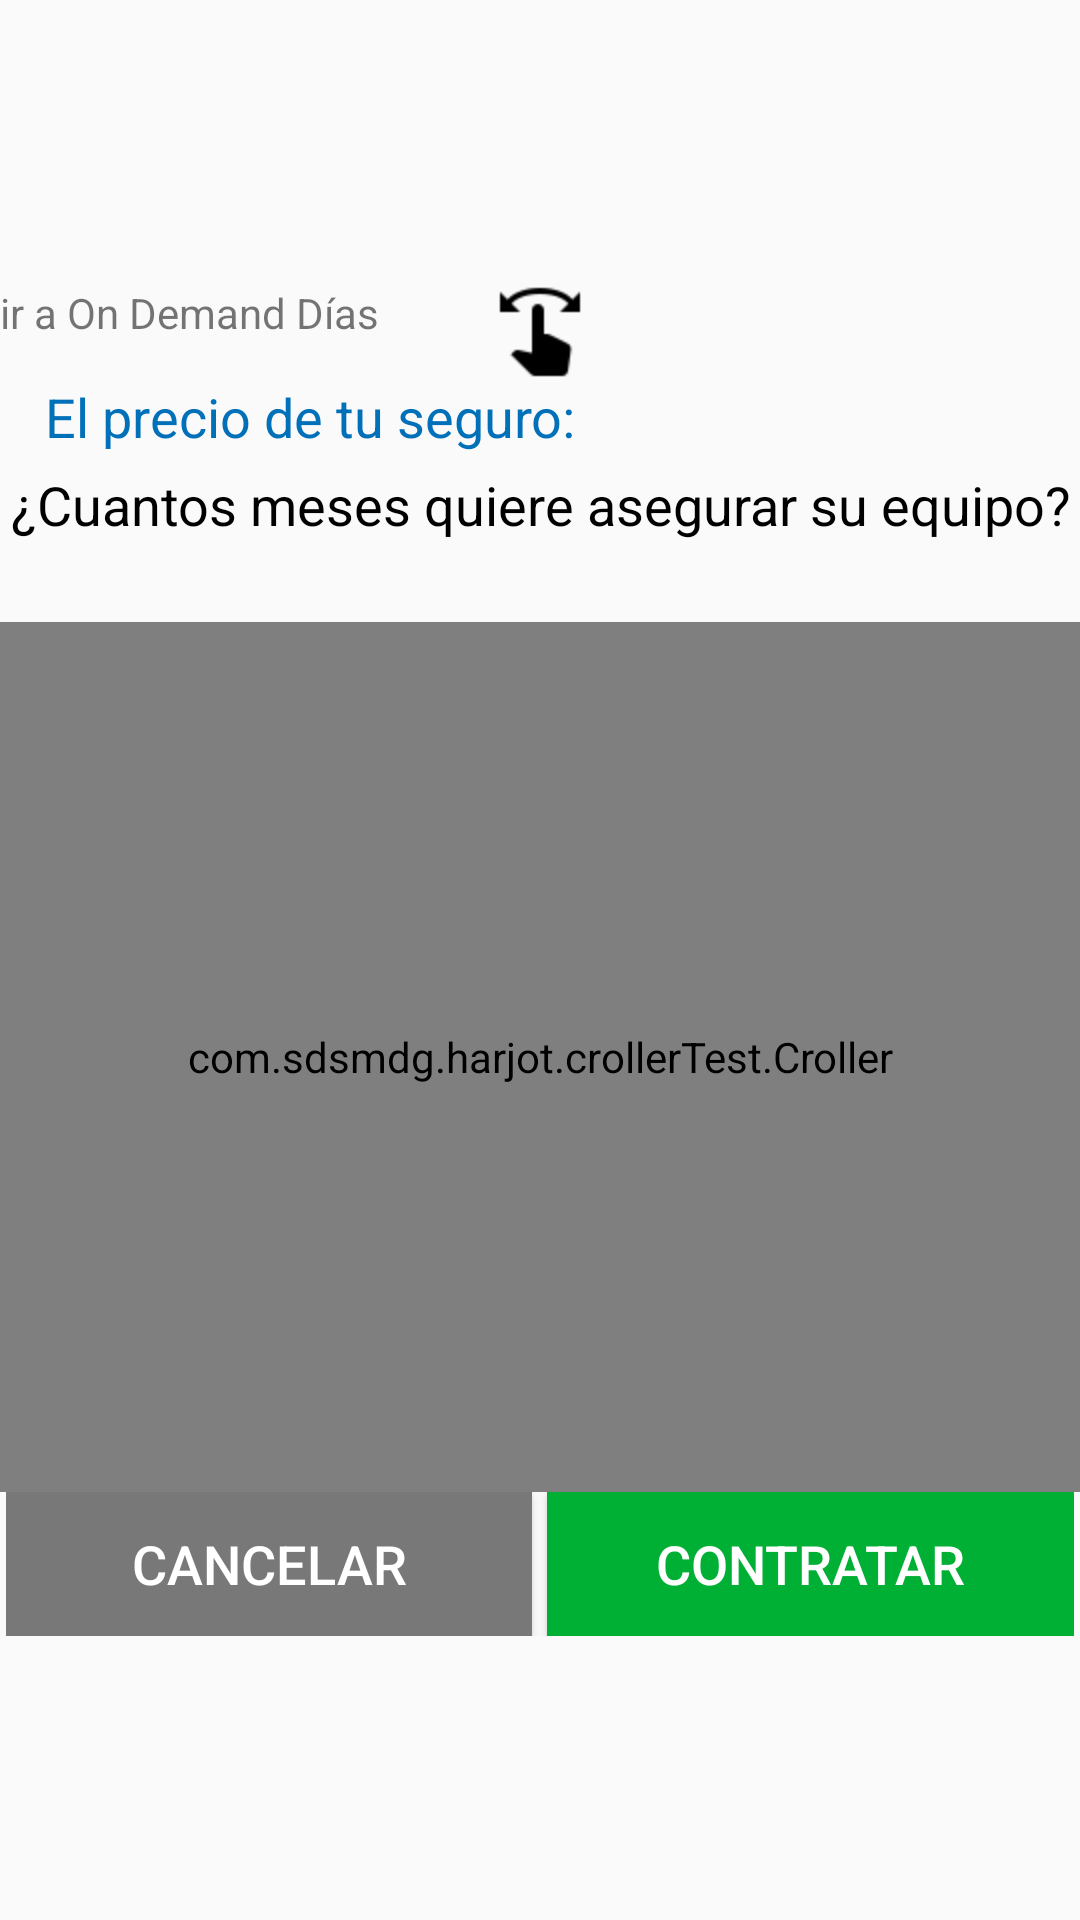

Named icons in this screenshot (1080px x 1920px) and their centers, (x,y):
gesture swipe: (540,332)
